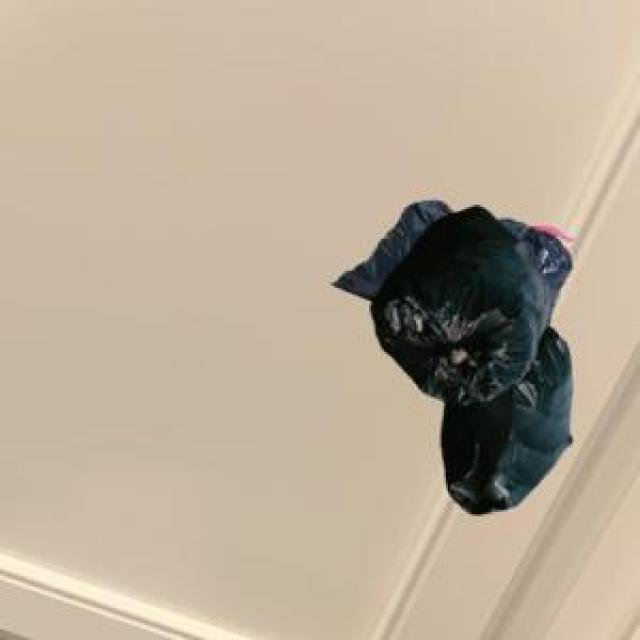miscellaneous trash: (367, 203, 568, 510), (329, 196, 570, 320)
